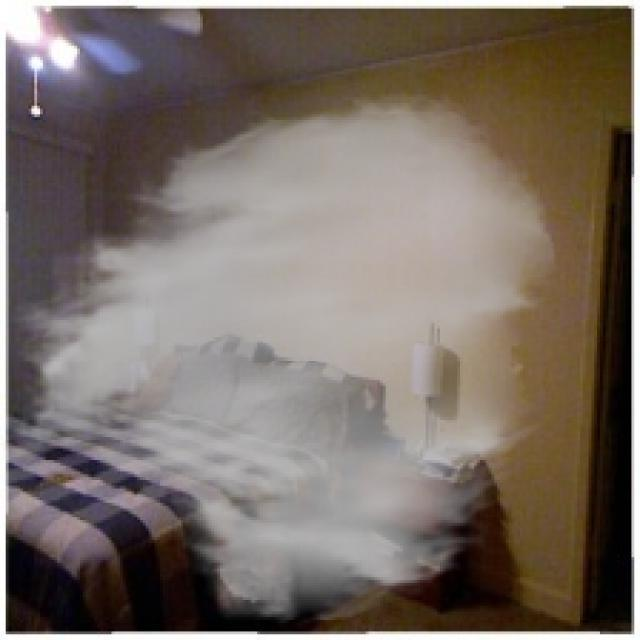Smoke: (0, 89, 560, 628)
